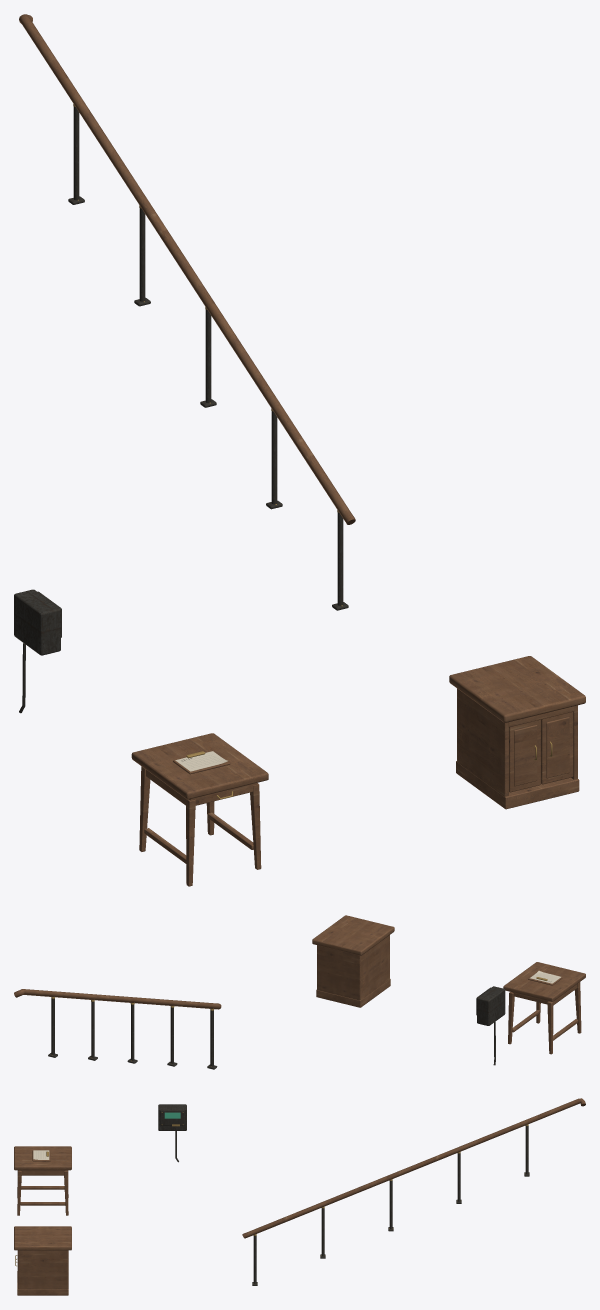
The model's file is apartment-joinery.glb.
The picture shows the model from 3 angles, top to bottom: view 1: azimuth 30°, elevation 25°; view 2: azimuth 150°, elevation 25°; view 3: azimuth 270°, elevation 25°; orthographic projection. The views are drawn at different scales.
Visible parts, largest first — view 1: Rounded timber stair rail, Console rounded top, Writing desk bullnose top, Console side, Service exit reader housing, Console plinth, Cabinet raised panel.001, Cabinet raised panel; view 2: Console rounded top, Console back, Writing desk bullnose top, Rounded timber stair rail, Console side, Service exit reader housing, Console plinth, Tapered writing desk leg.001, Tapered writing desk leg.003, Tapered writing desk leg, Stair baluster, Stair baluster.003 (+3 smaller); view 3: Rounded timber stair rail, Console side.001, Console rounded top, Writing desk bullnose top, Service exit reader housing, Console plinth, Reader inset bezel.
Part boxes in pixels (x1,y1,x2,y2): Rounded timber stair rail: [19, 14, 355, 524]; Console rounded top: [449, 656, 585, 722]; Writing desk bullnose top: [131, 733, 268, 799]; Console side: [457, 688, 508, 796]; Service exit reader housing: [14, 589, 60, 655]; Console plinth: [456, 761, 579, 809]; Cabinet raised panel.001: [546, 717, 569, 778]; Cabinet raised panel: [514, 725, 537, 786]; Console rounded top: [312, 915, 394, 955]; Console back: [317, 945, 360, 1000]; Writing desk bullnose top: [503, 962, 585, 1001]; Rounded timber stair rail: [14, 989, 221, 1009]; Console side: [360, 935, 389, 1000]; Service exit reader housing: [477, 986, 505, 1025]; Console plinth: [316, 979, 390, 1007]; Tapered writing desk leg.001: [547, 1001, 553, 1054]; Tapered writing desk leg.003: [508, 992, 514, 1044]; Tapered writing desk leg: [574, 982, 581, 1033]; Stair baluster: [210, 1010, 213, 1066]; Stair baluster.003: [91, 1001, 94, 1057]; Rounded timber stair rail: [242, 1098, 585, 1238]; Console side.001: [18, 1250, 67, 1289]; Console rounded top: [14, 1226, 71, 1250]; Writing desk bullnose top: [14, 1146, 71, 1170]; Service exit reader housing: [158, 1104, 186, 1130]; Console plinth: [17, 1271, 68, 1295]; Reader inset bezel: [160, 1110, 184, 1125].
Bounding box in the file's own units: 3.86 × 3.42 × 9.09.
Materials: 5 (3 with a texture image).
